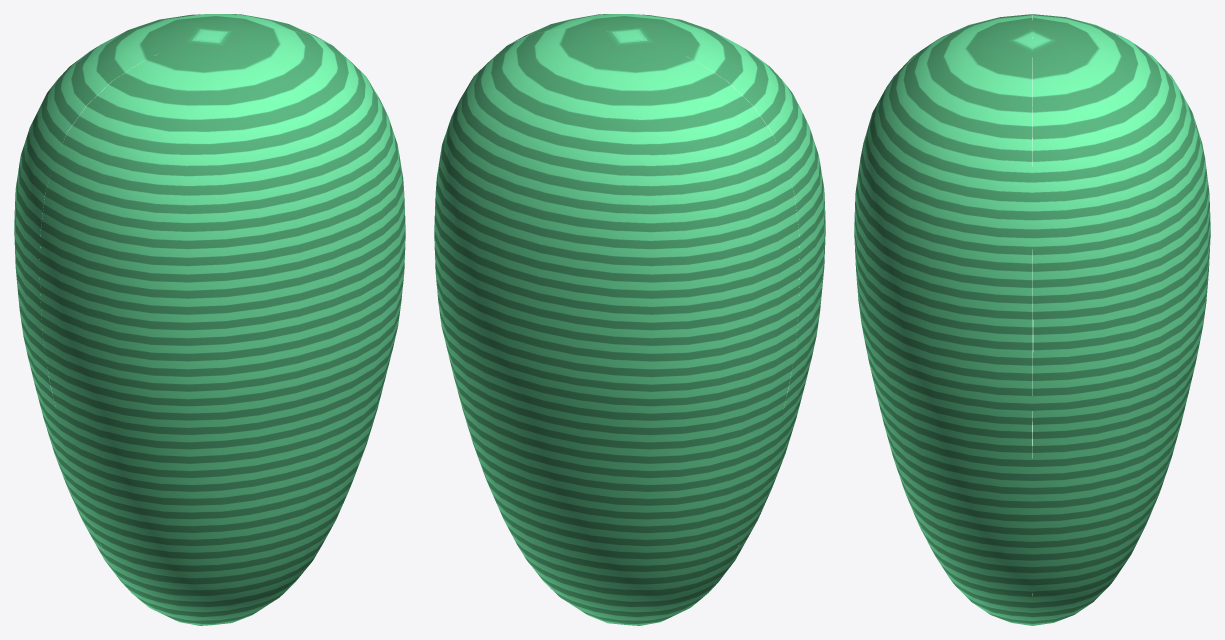
The model's file is Phantom-transformed.glb.
3 renders of one model, left to right at view 1: azimuth 30°, elevation 25°; view 2: azimuth 150°, elevation 25°; view 3: azimuth 270°, elevation 25°, orthographic.
Parts seen in each view (by area): view 1: Object_4; view 2: Object_4; view 3: Object_4.
Part boxes in pixels (x1=…): Object_4: x1=14, y1=14, x2=405, y2=625; Object_4: x1=434, y1=14, x2=825, y2=625; Object_4: x1=854, y1=14, x2=1210, y2=625.
Size of the model in its own units: 0.2339 by 0.3824 by 0.2138.
Materials: 3 (2 with a texture image).
